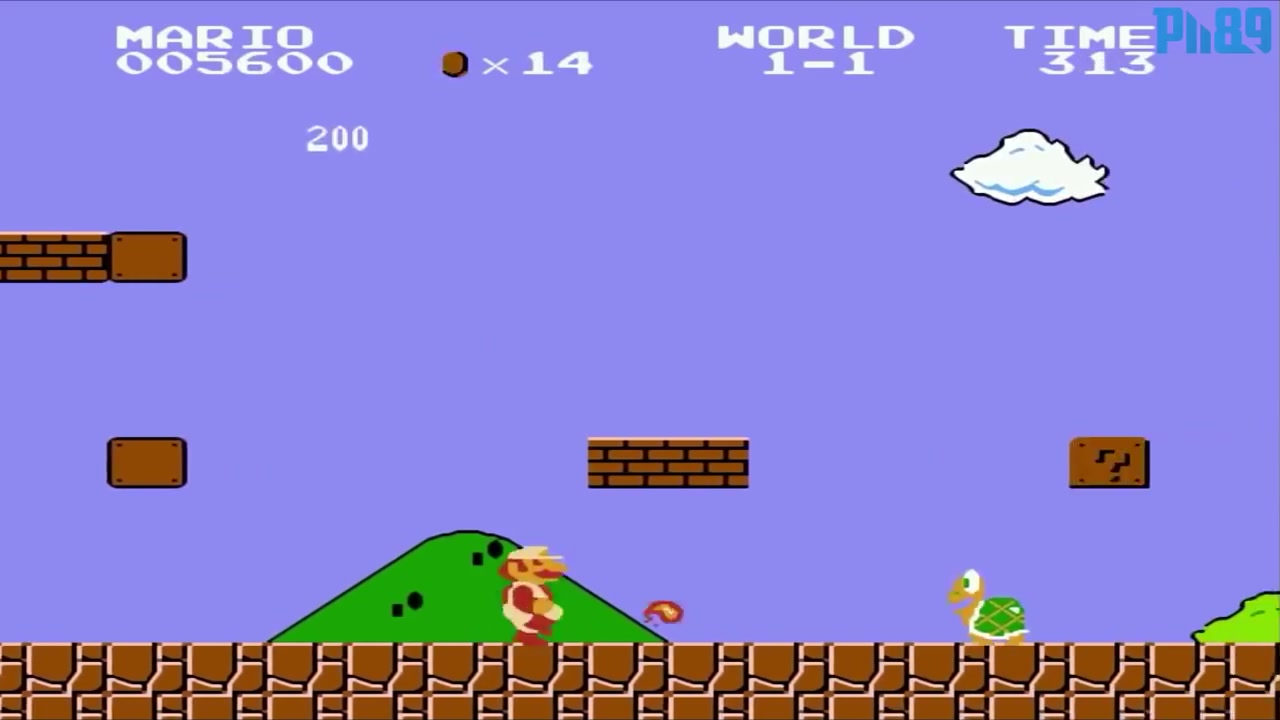mario: (495, 540, 573, 640)
